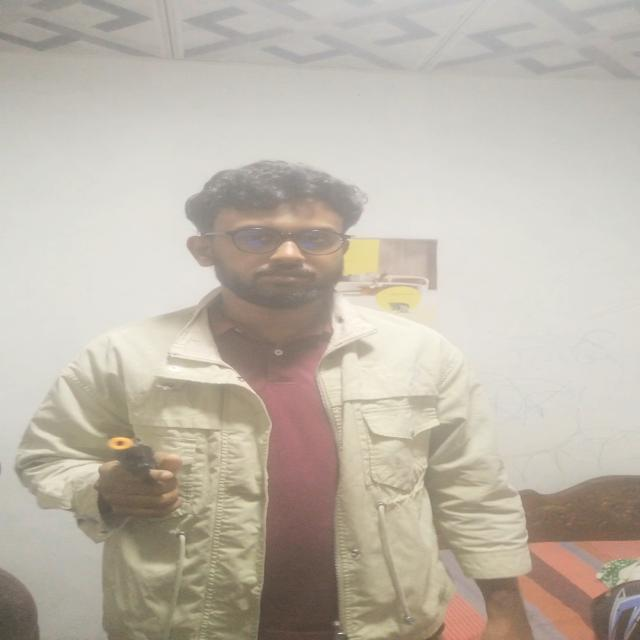Gun_Holder: (74, 430, 203, 527)
Jacket_Wearer: (16, 302, 545, 640)
Person: (19, 158, 547, 640)
